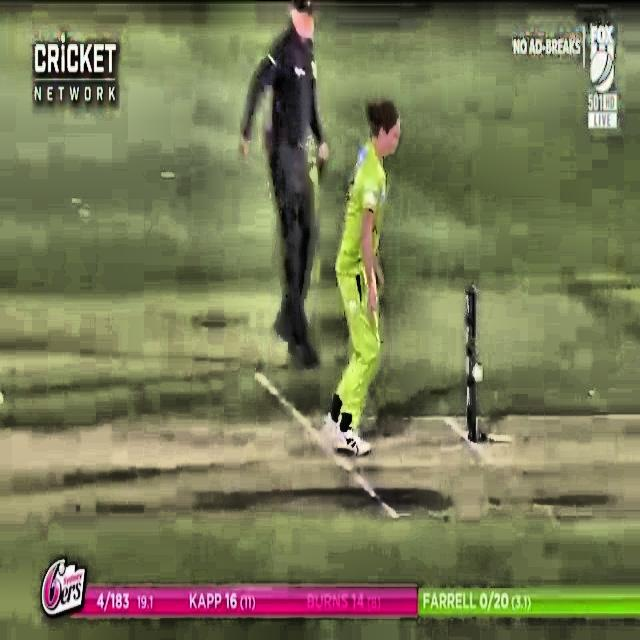Pitch_Line: (249, 370, 339, 456), (332, 451, 398, 523)
Undis_Wicket: (460, 275, 487, 447)
